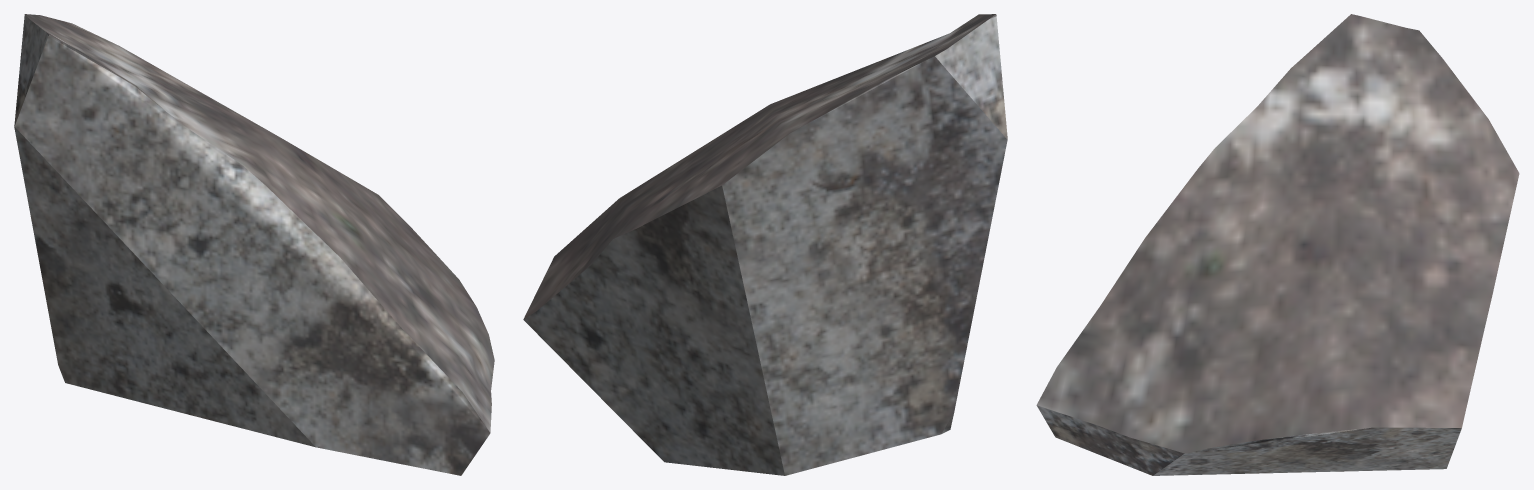
The model's file is Asteroid_Large_001_02_010_03_004.fbx.
3 renders of one model, left to right at view 1: azimuth 30°, elevation 25°; view 2: azimuth 150°, elevation 25°; view 3: azimuth 270°, elevation 25°, orthographic. The views are drawn at different scales.
Parts seen in each view (by area): view 1: Asteroid_Large_001_02_010_03_004; view 2: Asteroid_Large_001_02_010_03_004; view 3: Asteroid_Large_001_02_010_03_004.
Part boxes in pixels (box(x1,y1,x2,y2)): Asteroid_Large_001_02_010_03_004: box(14, 14, 494, 475); Asteroid_Large_001_02_010_03_004: box(523, 14, 1007, 475); Asteroid_Large_001_02_010_03_004: box(1036, 14, 1519, 475).
Size of the model in its own units: 7.88 by 7.78 by 9.58.
